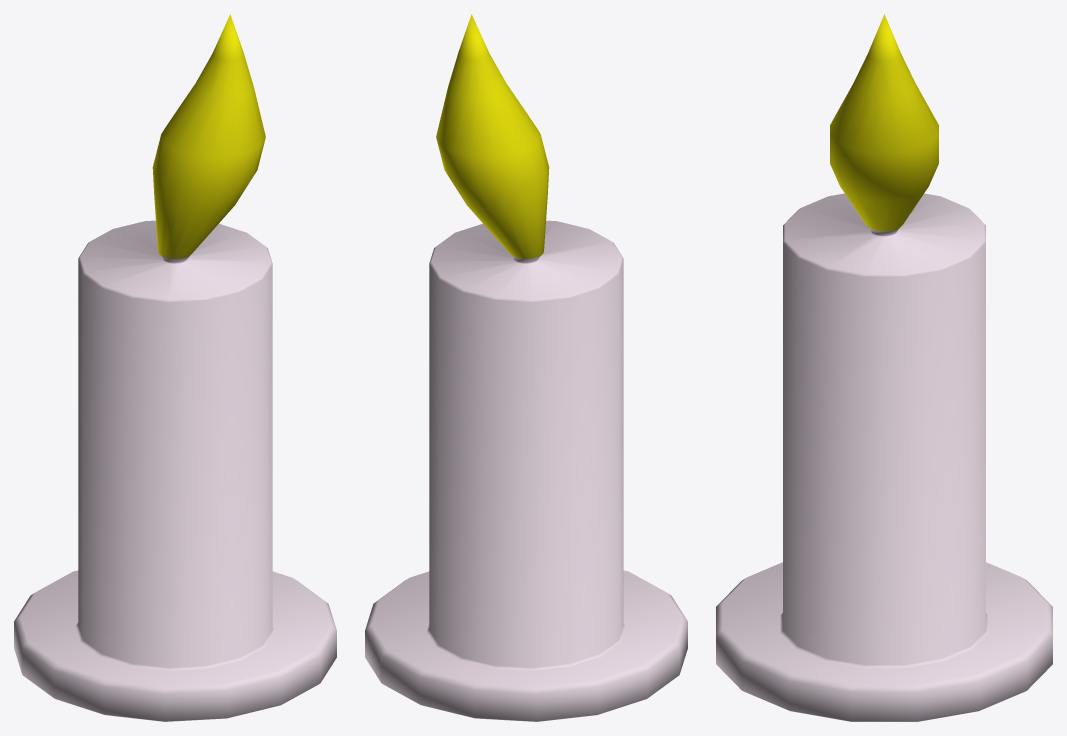
Rendered from Vela chica.fbx.
3 renders of one model, left to right at view 1: azimuth 30°, elevation 25°; view 2: azimuth 150°, elevation 25°; view 3: azimuth 270°, elevation 25°, orthographic. The views are drawn at different scales.
Visible parts, largest first — view 1: Cylinder; view 2: Cylinder; view 3: Cylinder.
Part boxes in pixels (x1=…): Cylinder: x1=14, y1=14, x2=336, y2=721; Cylinder: x1=365, y1=14, x2=687, y2=721; Cylinder: x1=716, y1=14, x2=1052, y2=721.
Size of the model in its own units: 42.21 by 92.1 by 42.21.
